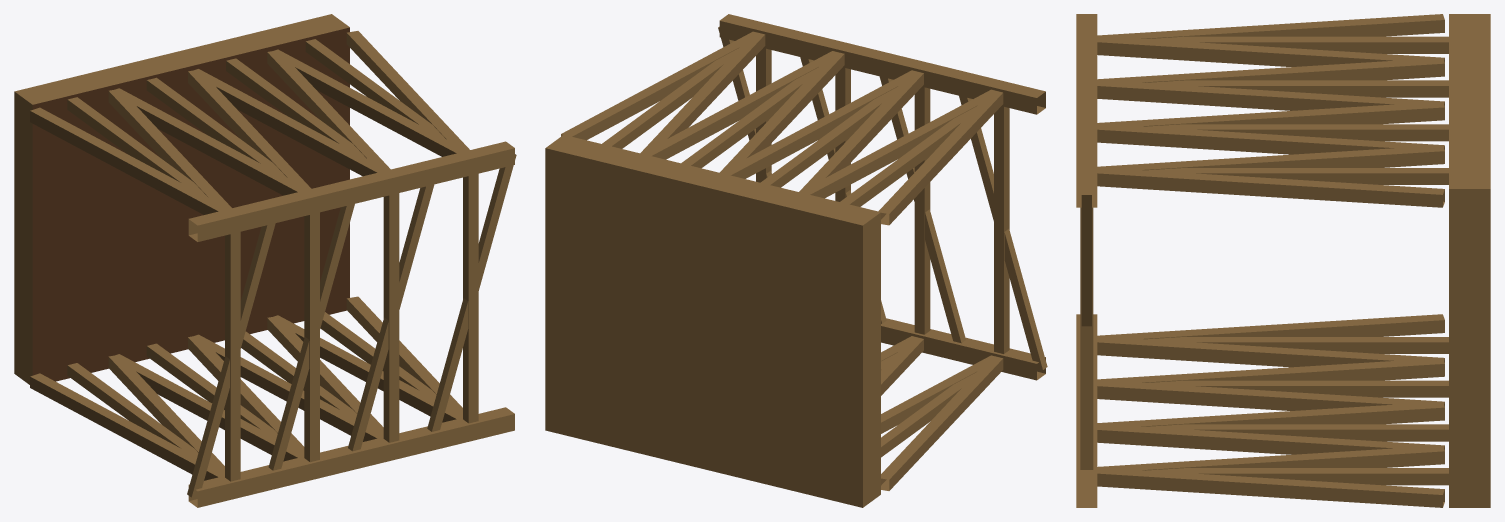
Rendered from middle.glb.
3 views of the same model, side by side, from view 1: azimuth 30°, elevation 25°; view 2: azimuth 150°, elevation 25°; view 3: azimuth 270°, elevation 25° (orthographic). The views are drawn at different scales.
Parts seen in each view (by area): view 1: bridge_07_middle; view 2: bridge_07_middle; view 3: bridge_07_middle.
Part boxes in pixels (<box>): bridge_07_middle: <box>14,14,516,507</box>; bridge_07_middle: <box>545,14,1047,507</box>; bridge_07_middle: <box>1076,14,1490,507</box>.
Size of the model in its own units: 16.54 by 13.6 by 16.
